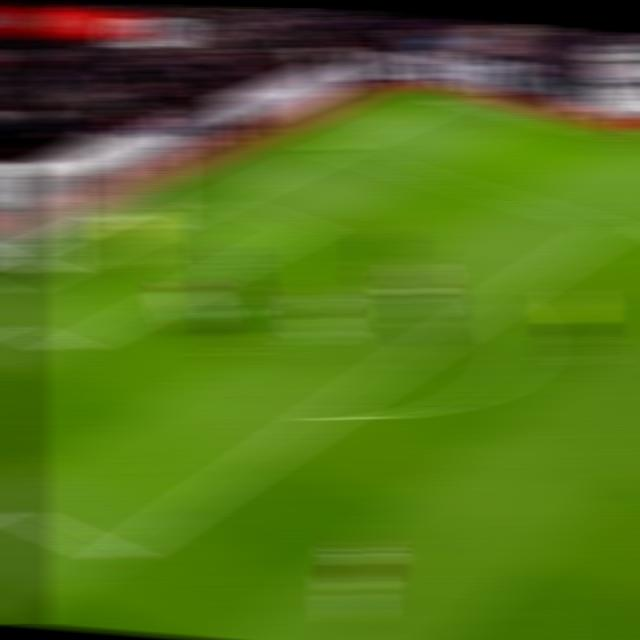bigarea_bottom_inner: (88, 530, 148, 582)
bigarea_top_inner: (592, 216, 634, 238)
bigarea_top_outter: (314, 141, 353, 161)
bottom_arc_area_intersection: (300, 396, 351, 434)
corner: (434, 90, 475, 104)
smallarea_bottom_inner: (45, 331, 93, 365)
smallarea_top_inner: (288, 218, 330, 241)
smallarea_top_outter: (198, 188, 241, 215)
top_arc_area_intersection: (478, 289, 518, 315)
